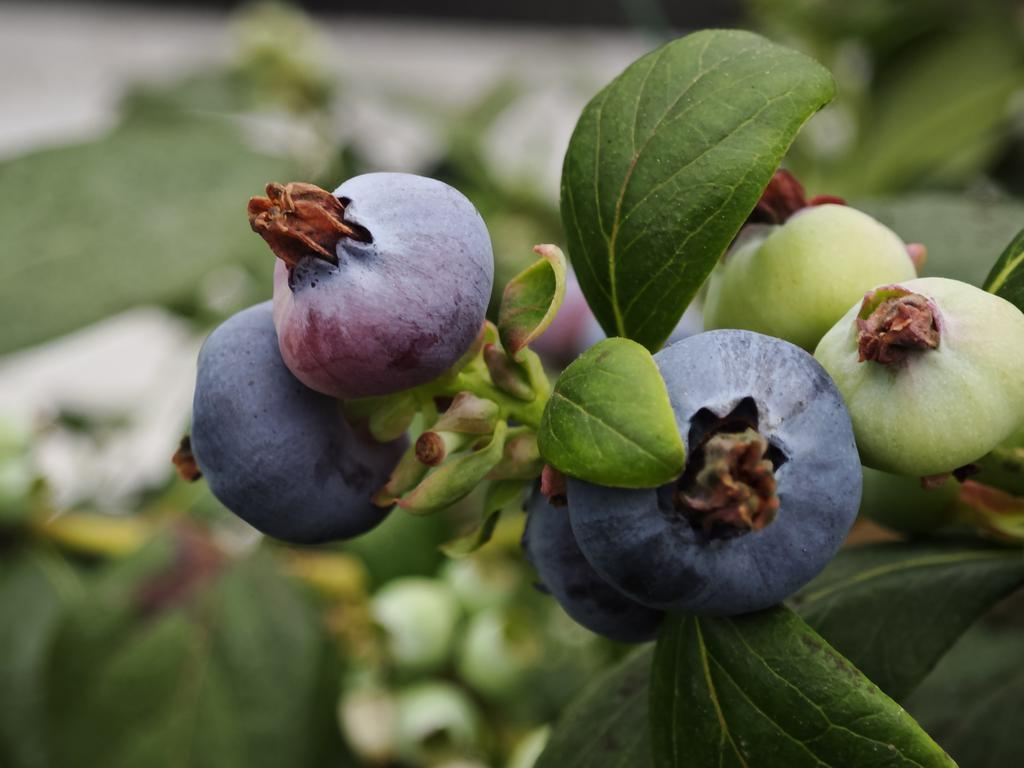RipeBlueBerry: (577, 333, 863, 620)
Semi-RipeBlueBerry: (270, 173, 492, 396)
UnripeBlueBerry: (817, 281, 1024, 473)
